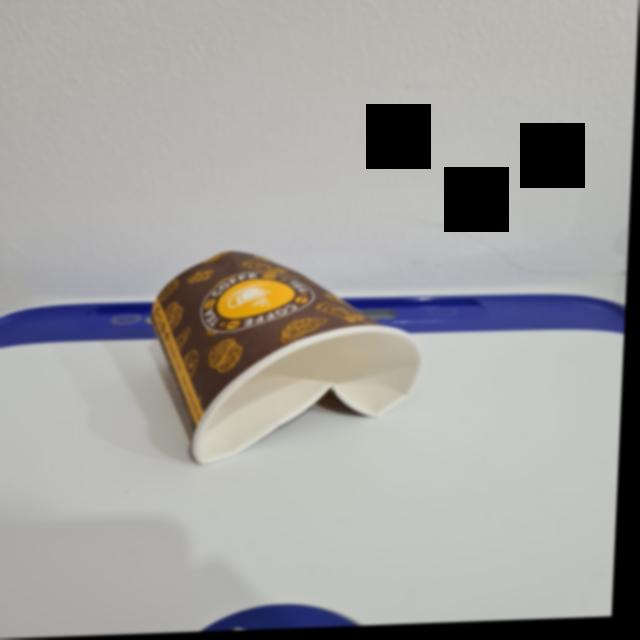cups: (125, 220, 445, 476)
